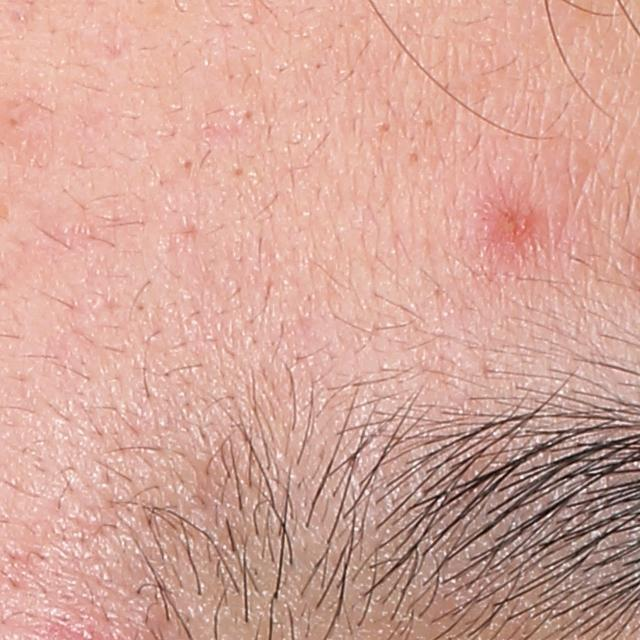comedo: (177, 155, 199, 175), (405, 148, 427, 167), (374, 119, 395, 138)
